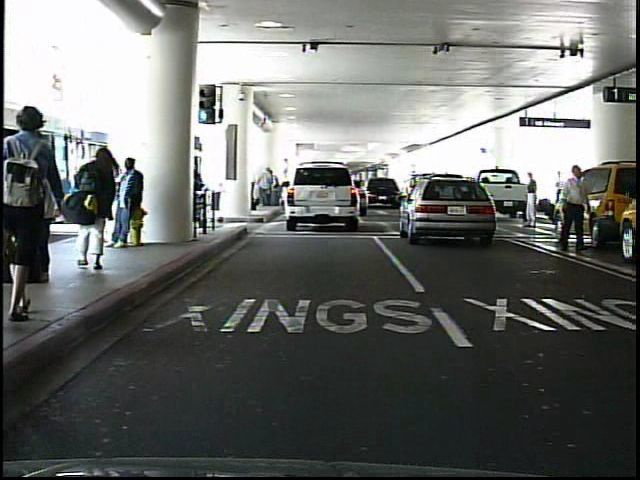person: (9, 108, 67, 330), (74, 139, 125, 273), (111, 154, 146, 247), (559, 160, 592, 256), (524, 171, 543, 229), (557, 169, 566, 211)
